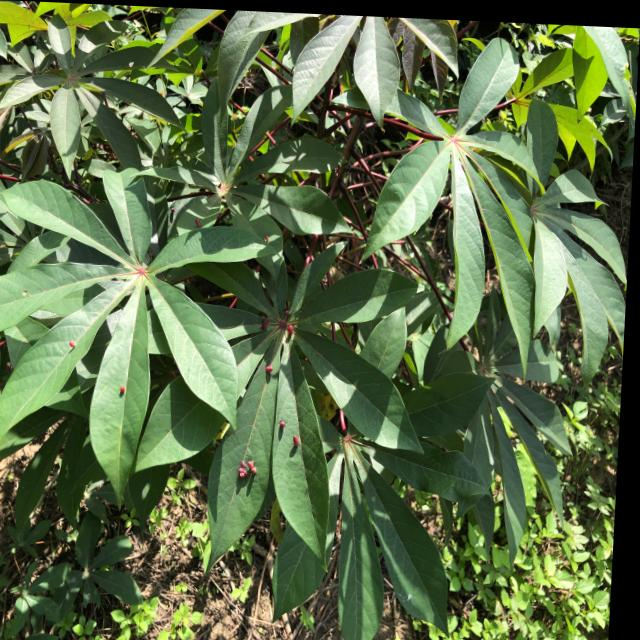Maleza: (456, 545, 610, 640)
Mosca: (273, 295, 299, 342), (234, 455, 265, 484), (251, 311, 270, 338), (262, 353, 278, 377), (287, 430, 303, 453), (115, 379, 133, 399), (66, 333, 82, 355), (272, 419, 290, 432), (191, 215, 204, 228)
